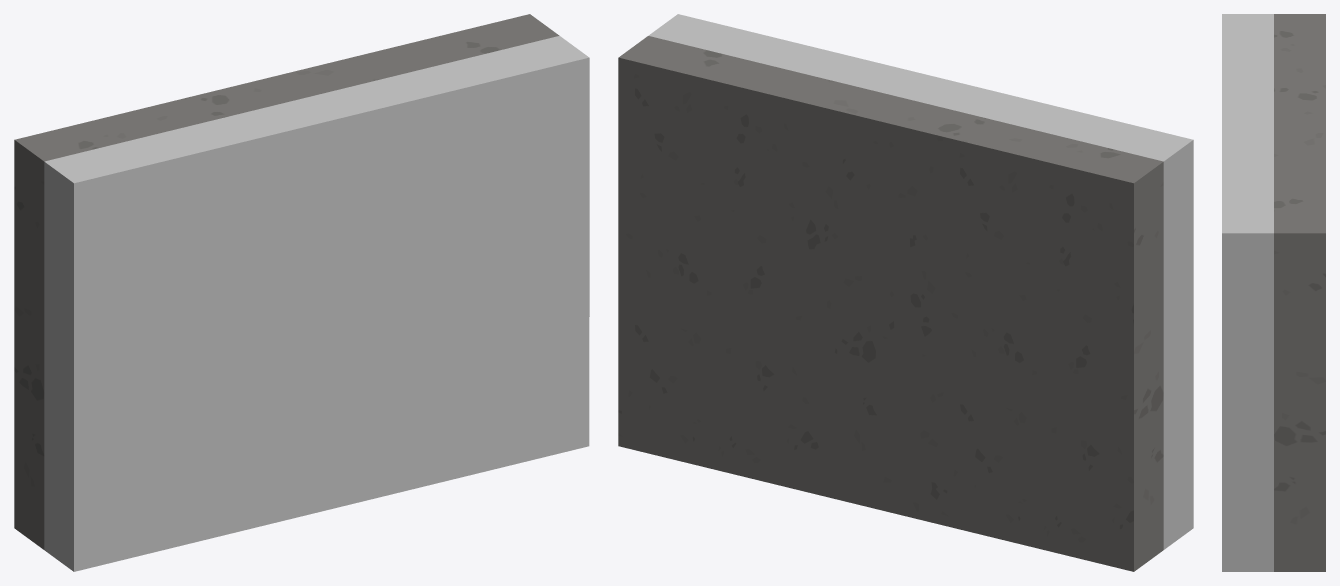
The model's file is SM_Bld_Grandstand_Wall_01.fbx.
3 views of the same model, side by side, from view 1: azimuth 30°, elevation 25°; view 2: azimuth 150°, elevation 25°; view 3: azimuth 270°, elevation 25° (orthographic). The views are drawn at different scales.
Visible parts, largest first — view 1: SM_Bld_Grandstand_Wall_01; view 2: SM_Bld_Grandstand_Wall_01; view 3: SM_Bld_Grandstand_Wall_01.
Part boxes in pixels (bbox=[...]): SM_Bld_Grandstand_Wall_01: bbox=[14, 14, 589, 571]; SM_Bld_Grandstand_Wall_01: bbox=[618, 14, 1193, 571]; SM_Bld_Grandstand_Wall_01: bbox=[1222, 14, 1325, 571].
Bounding box in the file's own units: 1250 × 901 × 250.
